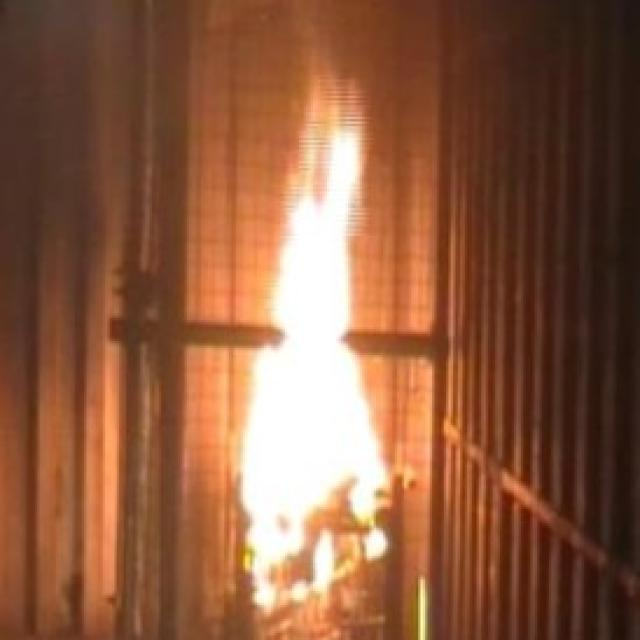Fire: (238, 72, 387, 586)
